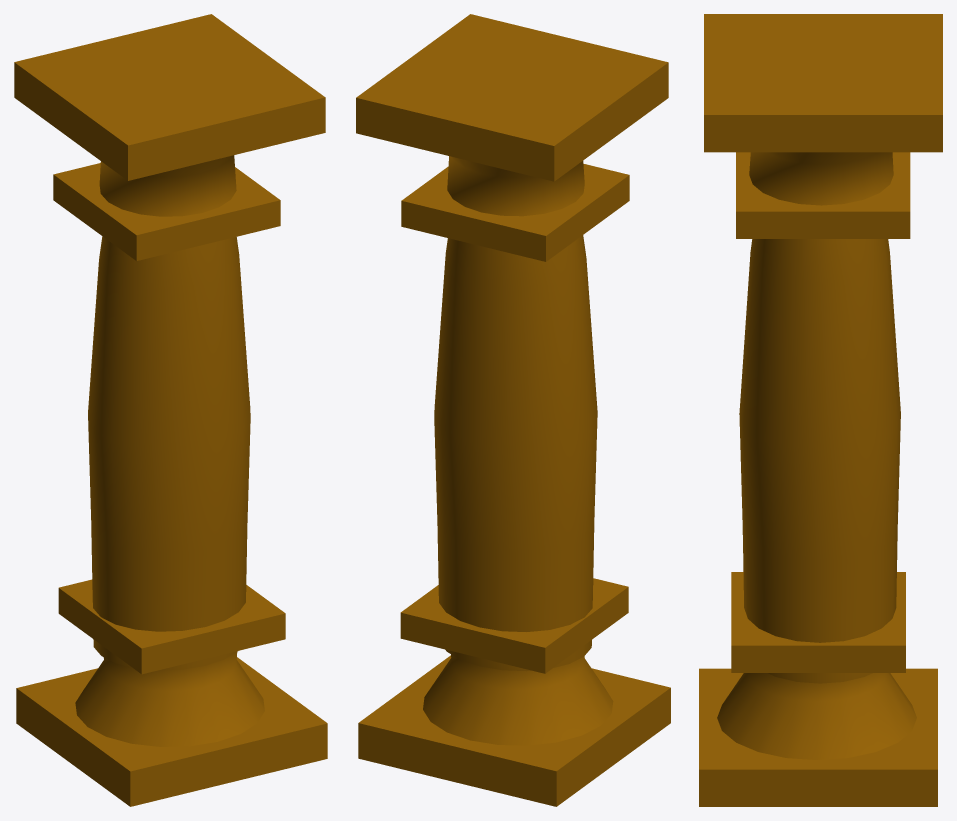
The model's file is pillarofdoom.fbx.
3 renders of one model, left to right at view 1: azimuth 30°, elevation 25°; view 2: azimuth 150°, elevation 25°; view 3: azimuth 270°, elevation 25°, orthographic. The views are drawn at different scales.
Parts seen in each view (by area): view 1: pillar; view 2: pillar; view 3: pillar.
Boxes of the visible parts, x1,y1,x2,y2 form: pillar: [14, 14, 327, 806]; pillar: [356, 14, 670, 806]; pillar: [699, 14, 942, 806].
Size of the model in its own units: 2.36 by 7.53 by 2.4.
